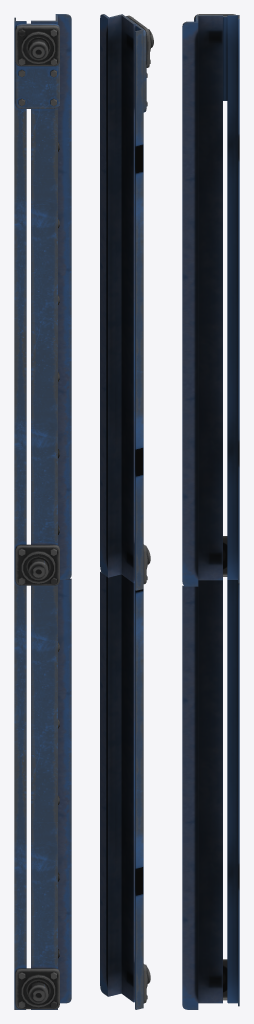
File: conveyor4.dae
3 renders of one model, left to right at view 1: azimuth 90°, elevation 25°; view 2: azimuth 210°, elevation 25°; view 3: azimuth 270°, elevation 25°, orthographic.
Visible parts, largest first — view 1: Conveyor01Frame02_Conveyor_0.012; view 2: Conveyor01Frame02_Conveyor_0.012; view 3: Conveyor01Frame02_Conveyor_0.012.
Boxes of the visible parts, <box> form: Conveyor01Frame02_Conveyor_0.012: <box>14,14,71,1009</box>; Conveyor01Frame02_Conveyor_0.012: <box>100,14,153,1009</box>; Conveyor01Frame02_Conveyor_0.012: <box>182,14,239,1009</box>.
Size of the model in its own units: 0.1273 by 0.1845 by 3.5.
